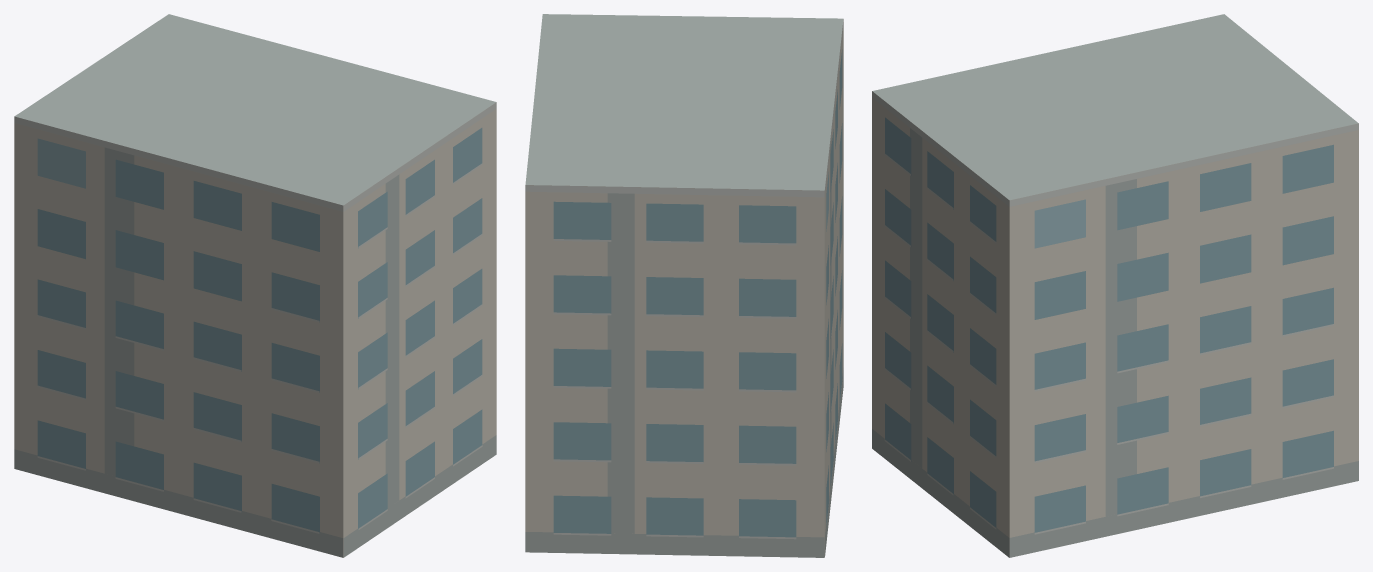
The model's file is survey-upis-33021046.glb.
The picture shows the model from 3 angles, left to right: view 1: azimuth 30°, elevation 25°; view 2: azimuth 150°, elevation 25°; view 3: azimuth 270°, elevation 25°; orthographic projection. The views are drawn at different scales.
Parts seen in each view (by area): view 1: survey-upis-33021046.tmp; view 2: survey-upis-33021046.tmp; view 3: survey-upis-33021046.tmp.
Part boxes in pixels (x1,y1,x2,y2): survey-upis-33021046.tmp: (14,14,496,557); survey-upis-33021046.tmp: (525,14,843,557); survey-upis-33021046.tmp: (872,14,1358,557).
Size of the model in its own units: 14.77 by 13.2 by 16.3.
